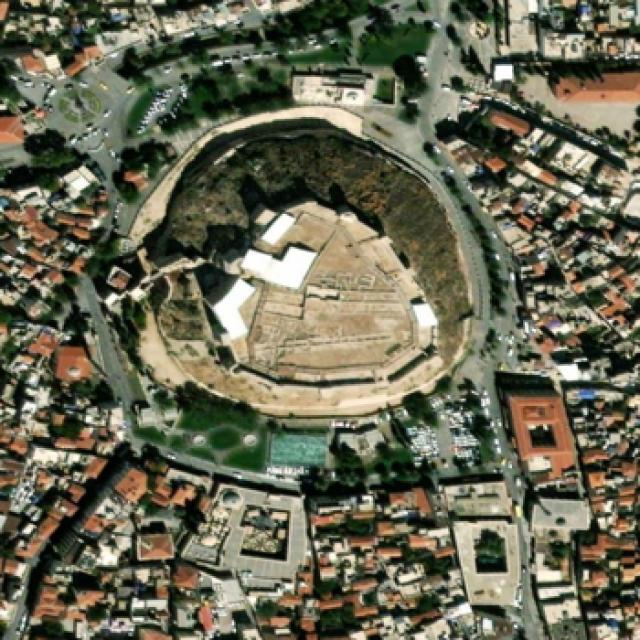artifacts: (85, 499, 404, 621), (511, 180, 639, 368), (4, 427, 124, 574), (568, 392, 637, 626), (512, 126, 629, 222), (531, 1, 638, 63), (3, 2, 78, 58)
ruins: (262, 298, 395, 368), (256, 138, 374, 200), (78, 88, 102, 114)
vegetation: (471, 252, 530, 391), (82, 280, 141, 412), (429, 0, 506, 87), (296, 13, 406, 68), (179, 407, 266, 469), (319, 439, 417, 492), (108, 148, 162, 236), (224, 3, 272, 41), (13, 72, 58, 110), (2, 134, 40, 177), (94, 37, 144, 68), (74, 126, 104, 152)
